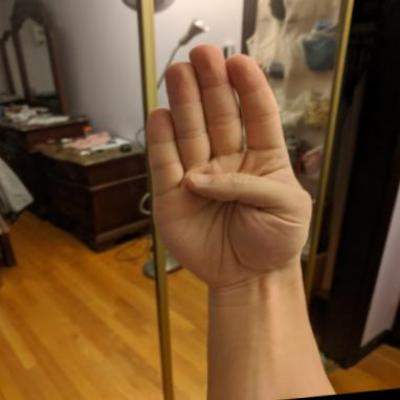hand: (135, 32, 326, 300)
